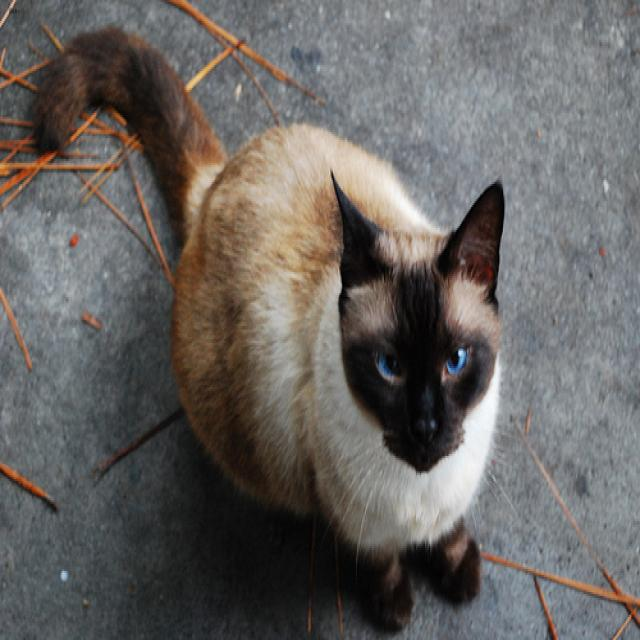Siamese: (329, 169, 502, 470)
